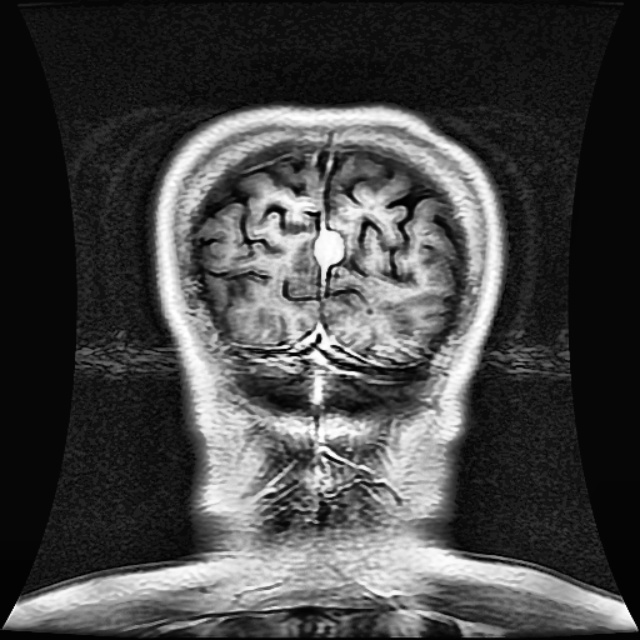Glioma: (313, 227, 342, 264)
